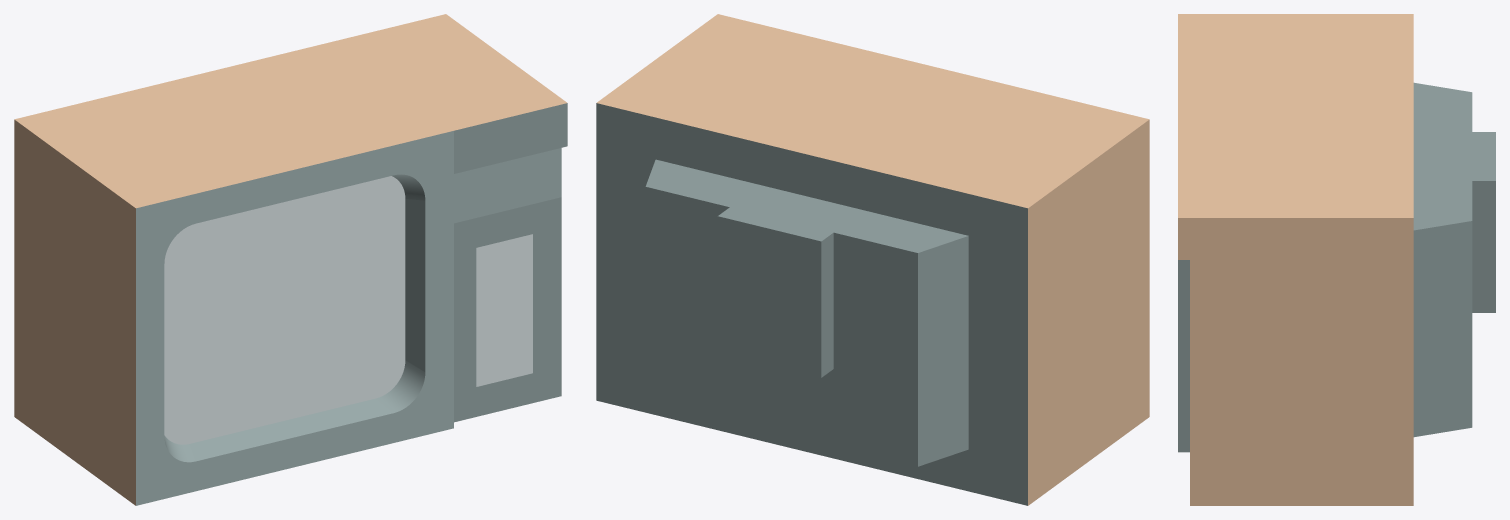
File: televisionVintage.gltf
The picture shows the model from 3 angles, left to right: view 1: azimuth 30°, elevation 25°; view 2: azimuth 150°, elevation 25°; view 3: azimuth 270°, elevation 25°; orthographic projection. The views are drawn at different scales.
Parts seen in each view (by area): view 1: televisionVintage(Clone); view 2: televisionVintage(Clone); view 3: televisionVintage(Clone).
Boxes of the visible parts, x1=… form: televisionVintage(Clone): x1=14, y1=14, x2=567, y2=505; televisionVintage(Clone): x1=596, y1=14, x2=1149, y2=505; televisionVintage(Clone): x1=1178, y1=14, x2=1495, y2=505.
Size of the model in its own units: 0.41 by 0.27 by 0.27.
